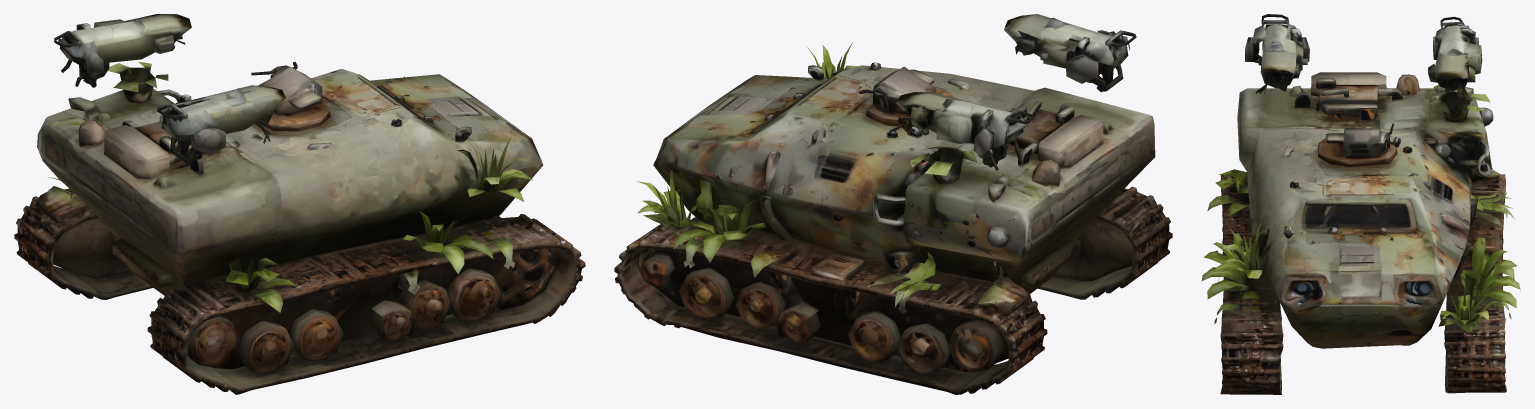
3 views of the same model, side by side, from view 1: azimuth 30°, elevation 25°; view 2: azimuth 150°, elevation 25°; view 3: azimuth 270°, elevation 25° (orthographic). The views are drawn at different scales.
Parts seen in each view (by area): view 1: tripo_node_ccba36a0-133d-496c-a24a-85e83360c75c; view 2: tripo_node_ccba36a0-133d-496c-a24a-85e83360c75c; view 3: tripo_node_ccba36a0-133d-496c-a24a-85e83360c75c.
Boxes of the visible parts, box(x1,y1,x2,y2) form: tripo_node_ccba36a0-133d-496c-a24a-85e83360c75c: box(14, 14, 585, 394); tripo_node_ccba36a0-133d-496c-a24a-85e83360c75c: box(614, 14, 1172, 394); tripo_node_ccba36a0-133d-496c-a24a-85e83360c75c: box(1201, 14, 1520, 394).
Size of the model in its own units: 0.9995 by 0.6401 by 0.7808.
1 material, 1 textured.
